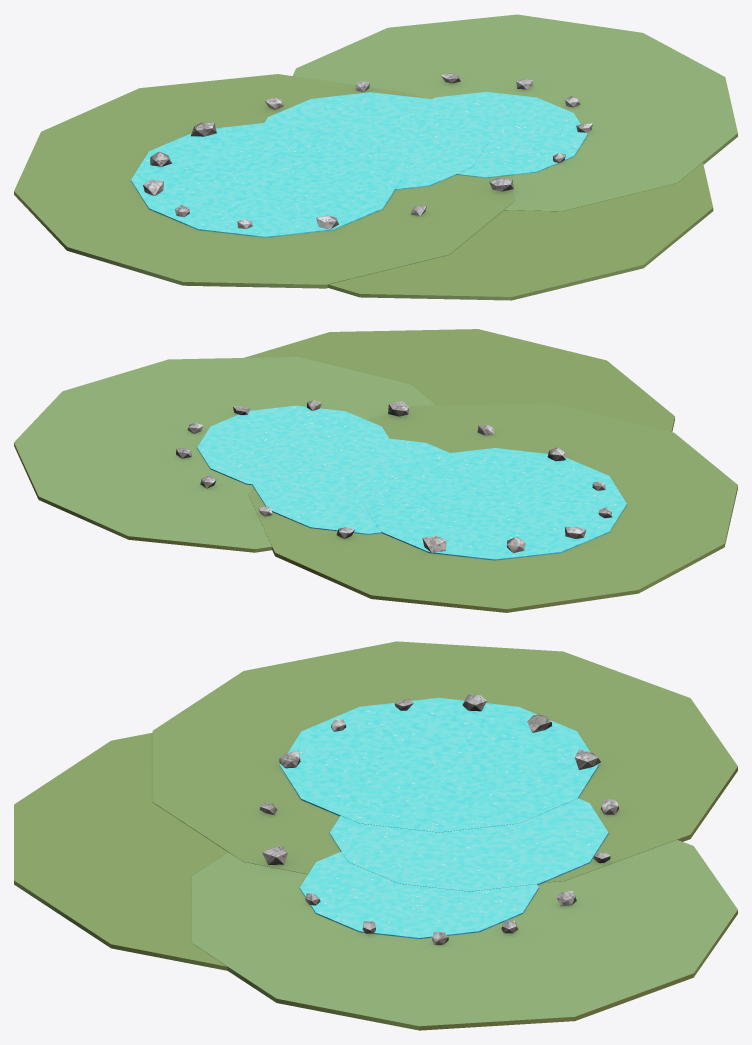
The model's file is area_pool_0_0.fbx.
3 views of the same model, one above another, from view 1: azimuth 30°, elevation 25°; view 2: azimuth 150°, elevation 25°; view 3: azimuth 270°, elevation 25° (orthographic). The views are drawn at different scales.
Parts seen in each view (by area): view 1: area_pool_0_0_body; view 2: area_pool_0_0_body; view 3: area_pool_0_0_body.
Part boxes in pixels (x1,y1,x2,y2): area_pool_0_0_body: (14, 14, 737, 300); area_pool_0_0_body: (14, 329, 737, 612); area_pool_0_0_body: (14, 641, 737, 1030).
Size of the model in its own units: 11426 by 280 by 9088.
Materials: 1 (1 with a texture image).
